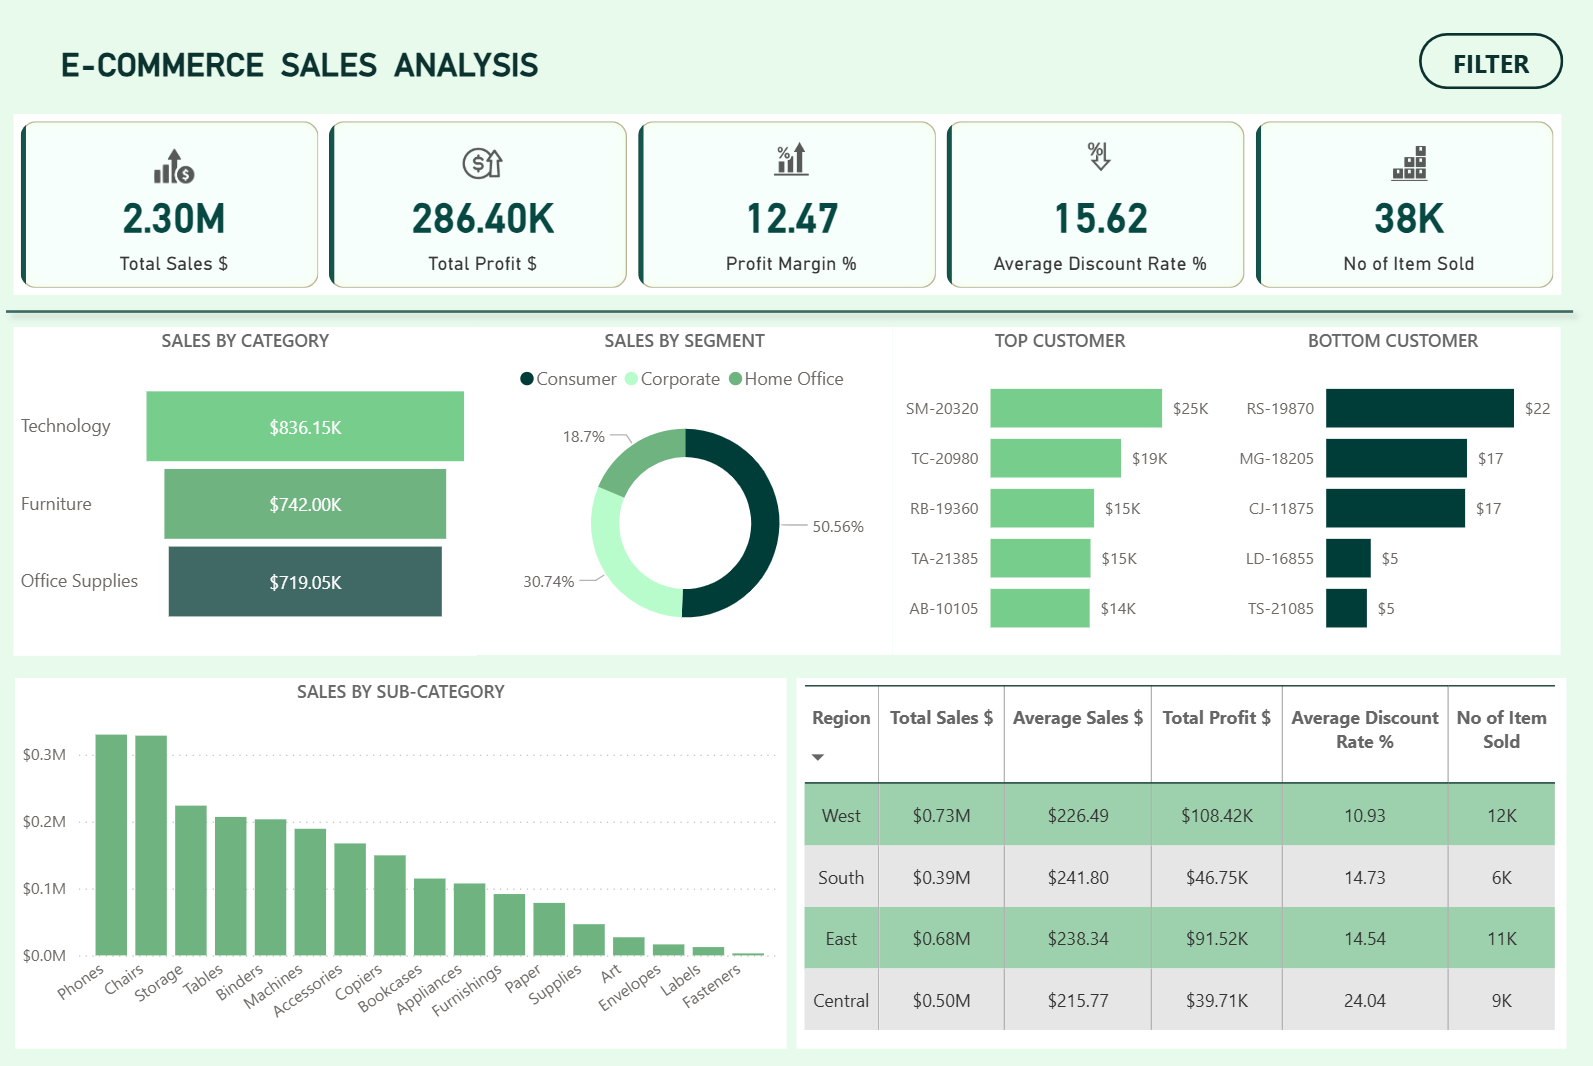

The dashboard page shown, as its layout file describes it:
{"tool":"powerbi","page":{"name":"Sales","canvas":[1200,800],"ordinal":0},"visuals":[{"type":"cardVisual","fields":{"Data":["Orders_csv.Total Sales $","Orders_csv.Total Profit $","Orders_csv.Ptofit Margin %","Orders_csv.Average Discount Rate %","Orders_csv.No of Item Sold"]},"box":[14.4,87.6,1158,135.6],"z":0},{"type":"donutChart","title":"SALES BY SEGMENT","fields":{"Category":["Orders_csv.Segment"],"Y":["Sum(Orders_csv.Sales)"]},"box":[361.2,247.2,310.8,245.4],"z":0,"group":"g1"},{"type":"funnel","title":"SALES BY CATEGORY","fields":{"Category":["Orders_csv.Category"],"Y":["Sum(Orders_csv.Sales)"]},"box":[14.4,247.4,346.7,245.8],"z":1000,"group":"g1"},{"type":"barChart","title":"TOP CUSTOMER","fields":{"Category":["Orders_csv.Customer ID"],"Y":["Sum(Orders_csv.Sales)"]},"box":[672,247.2,250.8,245.4],"z":2000,"group":"g1"},{"type":"clusteredColumnChart","title":"SALES BY SUB-CATEGORY","fields":{"Category":["Orders_csv.Sub-Category"],"Y":["Sum(Orders_csv.Sales)"]},"box":[15.6,510,577.2,277.2],"z":2000},{"type":"barChart","title":"BOTTOM CUSTOMER","fields":{"Y":["Sum(Orders_csv.Sales)"],"Category":["Orders_csv.Customer ID"]},"box":[921.6,247.2,250.8,245.4],"z":3000,"group":"g1"},{"type":"tableEx","fields":{"Values":["Orders_csv.Region","Orders_csv.Total Sales $","Orders_csv.Average Sales $","Orders_csv.Total Profit $","Orders_csv.Average Discount Rate %","Orders_csv.No of Item Sold"]},"box":[600,510,576,277.2],"z":4000},{"type":"shape","box":[0,223.2,1190.4,24],"z":6000},{"type":"group","id":"g1","title":"Group 1","box":[14.4,247.2,1158,246],"z":7000},{"type":"actionButton","title":"Filter","box":[1065.6,26.4,108,42],"z":9000},{"type":"textbox","box":[44.4,31.2,398.4,37.2],"z":11000}]}

Visuals, with their boxes in screenshot pixels (x1, y1, x2, y2), scaled from the page's 1200x800 canvas onto the 1593x1066 screenshot:
cardVisual - Orders_csv.Total Sales $ x Orders_csv.Total Profit $: left=19, top=117, right=1556, bottom=297
"SALES BY SEGMENT" donutChart: left=479, top=329, right=892, bottom=656
"SALES BY CATEGORY" funnel: left=19, top=330, right=479, bottom=657
"TOP CUSTOMER" barChart: left=892, top=329, right=1225, bottom=656
"SALES BY SUB-CATEGORY" clusteredColumnChart: left=21, top=680, right=787, bottom=1049
"BOTTOM CUSTOMER" barChart: left=1223, top=329, right=1556, bottom=656
tableEx - Orders_csv.Region x Orders_csv.Total Sales $: left=796, top=680, right=1561, bottom=1049
shape: left=0, top=297, right=1580, bottom=329
"Group 1" group: left=19, top=329, right=1556, bottom=657
"Filter" actionButton: left=1415, top=35, right=1558, bottom=91
textbox: left=59, top=42, right=588, bottom=91
